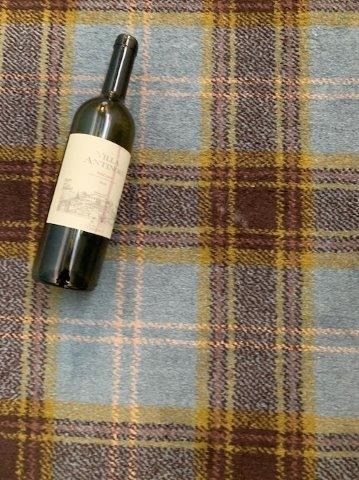botolkaca: (31, 32, 138, 292)
